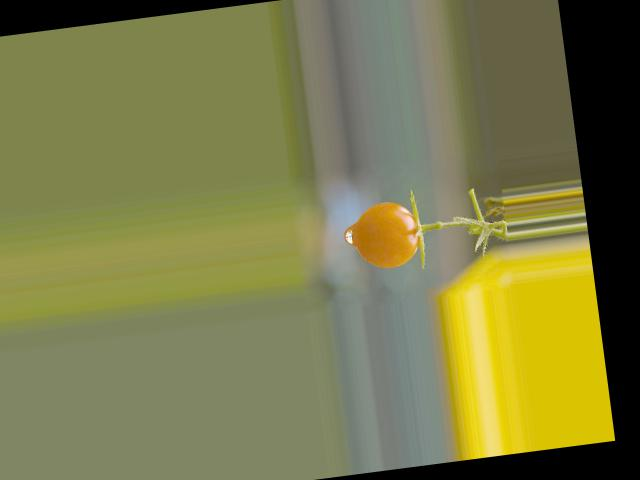tomato: (350, 197, 423, 271)
